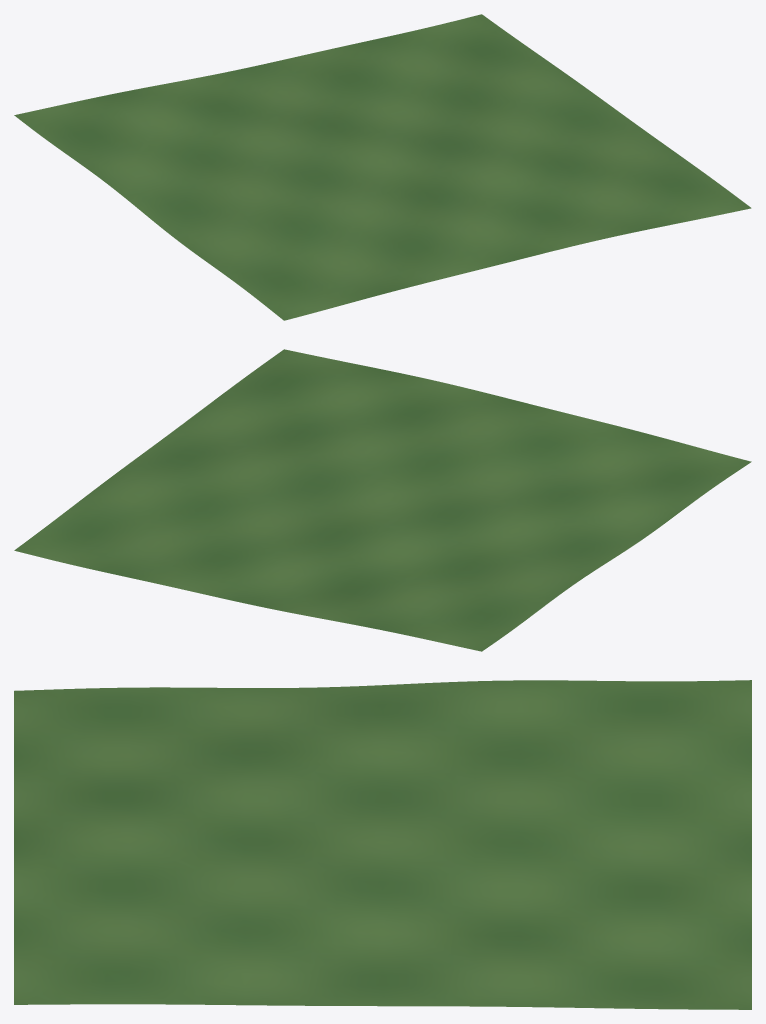
The model's file is chunk_10_5.glb.
3 renders of one model, top to bottom at view 1: azimuth 30°, elevation 25°; view 2: azimuth 150°, elevation 25°; view 3: azimuth 270°, elevation 25°, orthographic. The views are drawn at different scales.
Bounding box in the file's own units: 512 × 14.15 × 512.
